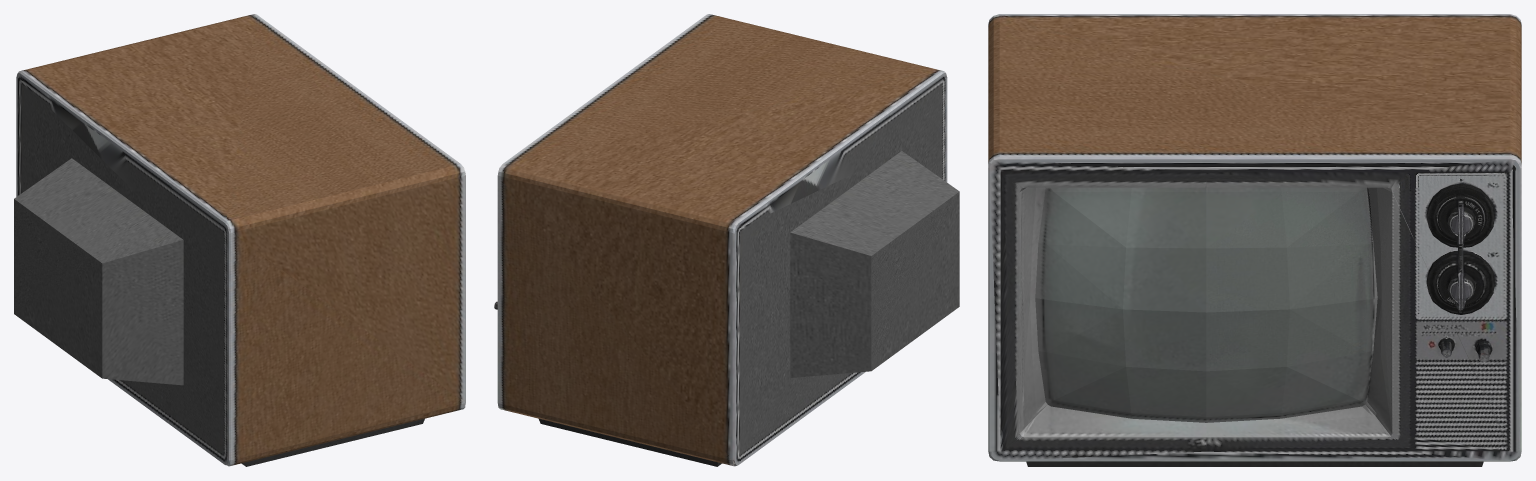
The picture shows the model from 3 angles, left to right: view 1: azimuth 30°, elevation 25°; view 2: azimuth 150°, elevation 25°; view 3: azimuth 270°, elevation 25°; orthographic projection. The views are drawn at different scales.
Visible parts, largest first — view 1: tripo_node_af351b02-5cdc-4aba-b0ad-1281807bfdce; view 2: tripo_node_af351b02-5cdc-4aba-b0ad-1281807bfdce; view 3: tripo_node_af351b02-5cdc-4aba-b0ad-1281807bfdce.
Part boxes in pixels (x1=…): tripo_node_af351b02-5cdc-4aba-b0ad-1281807bfdce: x1=14, y1=14, x2=465, y2=466; tripo_node_af351b02-5cdc-4aba-b0ad-1281807bfdce: x1=494, y1=14, x2=959, y2=466; tripo_node_af351b02-5cdc-4aba-b0ad-1281807bfdce: x1=988, y1=14, x2=1521, y2=466.
Size of the model in its own units: 0.877 by 0.6738 by 0.998.
1 material, 1 textured.
